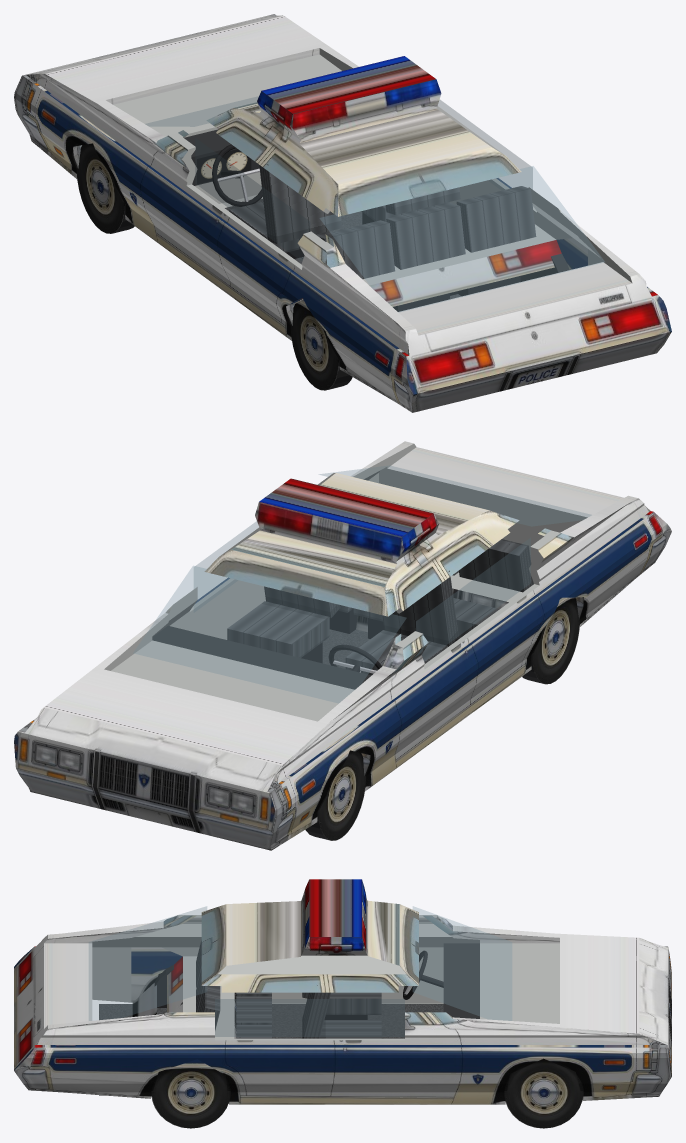
File: police_car.glb
3 views of the same model, one above another, from view 1: azimuth 30°, elevation 25°; view 2: azimuth 150°, elevation 25°; view 3: azimuth 270°, elevation 25° (orthographic). The views are drawn at different scales.
Visible parts, largest first — view 1: police_car, police_car_cabin, wheel_BL, wheel_FL; view 2: police_car, police_car_cabin, wheel_FL, wheel_BL; view 3: police_car, police_car_cabin, wheel_BR, wheel_FR, wheel_BL.
Part boxes in pixels (x1,y1,x2,y2): police_car: (14,14,671,412); police_car_cabin: (145,96,604,312); wheel_BL: (290,299,352,390); wheel_FL: (76,143,134,233); police_car: (14,441,671,850); police_car_cabin: (133,465,591,703); wheel_FL: (305,750,366,840); wheel_BL: (522,597,580,684); police_car: (14,879,671,1104); police_car_cabin: (89,906,511,1095); wheel_BR: (151,1059,230,1128); wheel_FR: (504,1058,583,1128); wheel_BL: (154,964,173,1007).
Bounding box in the file's own units: 1.93 × 1.47 × 5.1.
11 materials, 4 textured.
